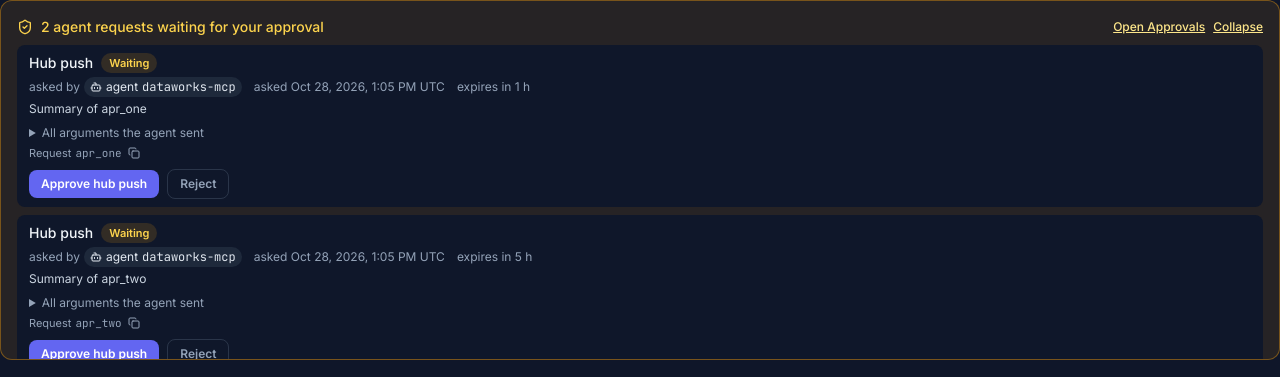
Test: the waiting card (section 2.1) › moves focus to the next card after a decision that went through
What coordinates should you click on to do the following:
click the button "Approve hub push" below "Summary of apr_one"
I would click on:
 (94, 184)
Its box is [29,170,159,198].
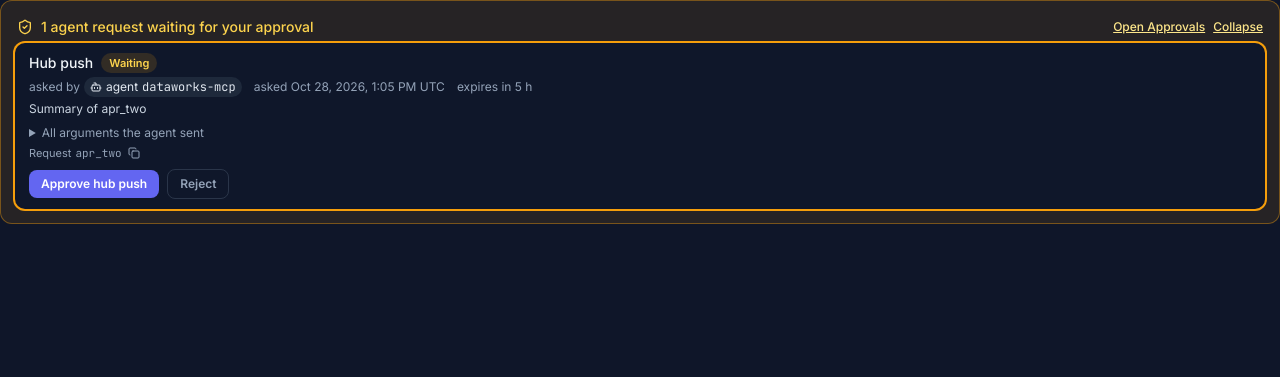
Check: the text with test id "approval-id" reads "apr_two", box [75,146,122,160]
Check: the number of list items with test id "approval-row" is 1, box [17,45,1263,207]
